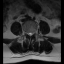CCS_stenosis: (29, 30, 31, 38)
LFS_normal: (33, 29, 35, 35)
LLS_normal: (31, 30, 33, 36)
RFS_normal: (26, 30, 27, 36)
RLS_normal: (27, 30, 29, 36)
